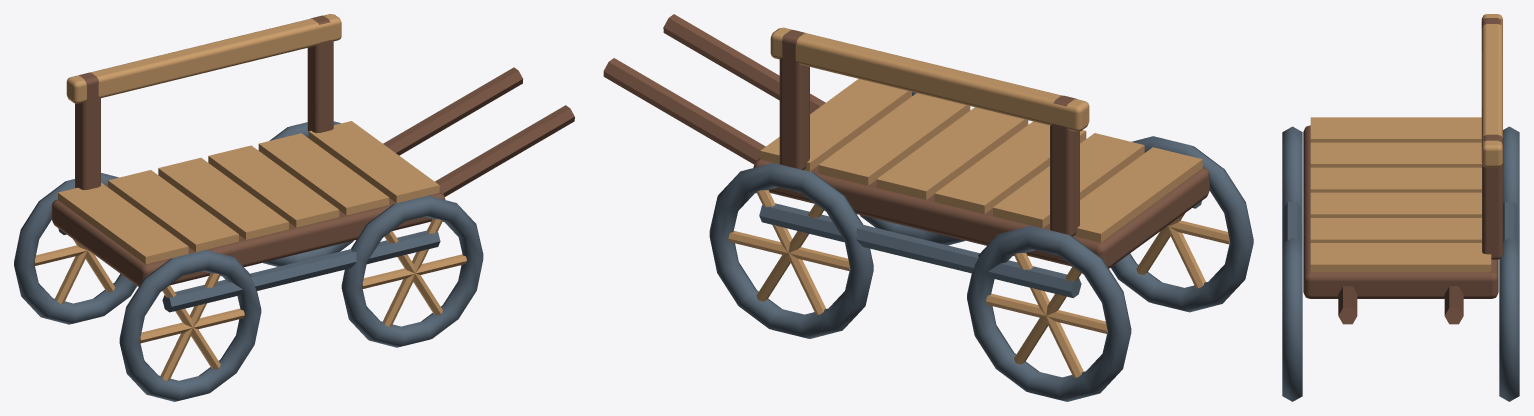
Rendered from alpine-snow-village-spoked-village-handcart-9170fa4c__19812.glb.
3 renders of one model, left to right at view 1: azimuth 30°, elevation 25°; view 2: azimuth 150°, elevation 25°; view 3: azimuth 270°, elevation 25°, orthographic. The views are drawn at different scales.
Visible parts, largest first — view 1: spoked-village-handcart-oak, spoked-village-handcart-iron, spoked-village-handcart-wood; view 2: spoked-village-handcart-oak, spoked-village-handcart-iron, spoked-village-handcart-wood; view 3: spoked-village-handcart-oak, spoked-village-handcart-iron, spoked-village-handcart-wood.
Boxes of the visible parts, bbox=[...] form: spoked-village-handcart-oak: bbox=[34, 14, 466, 381]; spoked-village-handcart-iron: bbox=[14, 121, 483, 401]; spoked-village-handcart-wood: bbox=[51, 15, 574, 286]; spoked-village-handcart-oak: bbox=[728, 27, 1229, 377]; spoked-village-handcart-iron: bbox=[709, 92, 1253, 401]; spoked-village-handcart-wood: bbox=[603, 14, 1209, 268]; spoked-village-handcart-oak: bbox=[1310, 14, 1502, 272]; spoked-village-handcart-iron: bbox=[1282, 126, 1519, 401]; spoked-village-handcart-wood: bbox=[1303, 18, 1503, 324].
Size of the model in its own units: 2.68 by 1.35 by 1.12.
